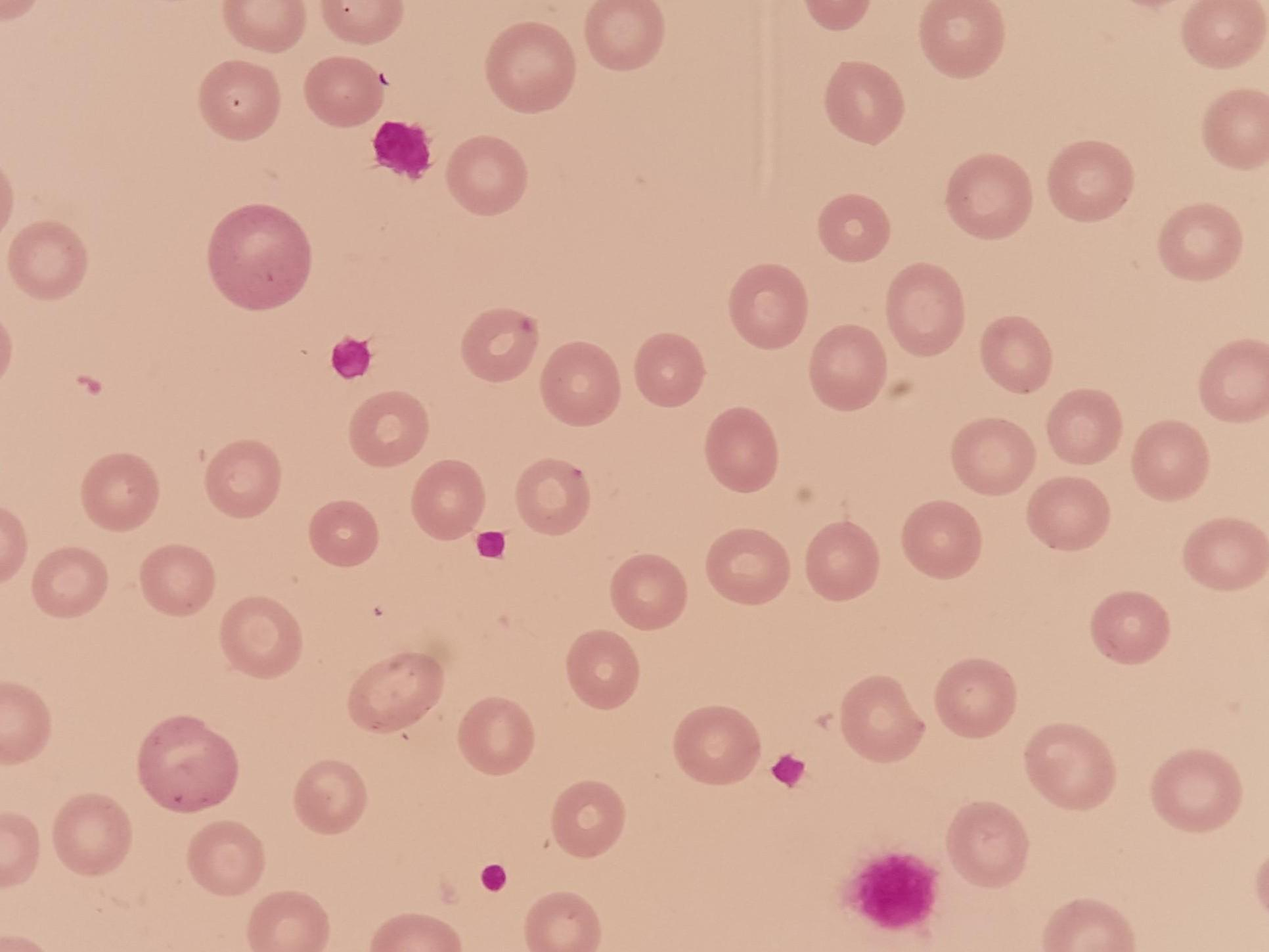Uninfected: (207, 204, 308, 314), (138, 715, 237, 811), (485, 22, 575, 112), (1024, 724, 1115, 810), (1149, 748, 1241, 831), (840, 675, 928, 761), (347, 652, 441, 732), (945, 152, 1031, 237), (946, 801, 1031, 886), (1048, 139, 1136, 221), (885, 263, 965, 353), (673, 706, 759, 786), (1157, 202, 1244, 281), (824, 62, 905, 146), (219, 596, 302, 677), (728, 263, 809, 346), (198, 59, 281, 140), (539, 342, 619, 426), (51, 794, 131, 878), (934, 658, 1017, 738), (705, 528, 790, 606), (1182, 516, 1269, 591), (921, 0, 1006, 76), (9, 220, 89, 300), (445, 135, 525, 215), (81, 451, 160, 532), (808, 326, 885, 409), (349, 390, 430, 468), (803, 520, 881, 601), (901, 501, 982, 579), (950, 417, 1033, 493), (705, 407, 780, 491), (1027, 477, 1110, 552), (1131, 420, 1209, 499), (460, 307, 539, 384), (204, 437, 280, 517), (186, 820, 265, 896), (411, 460, 486, 540), (302, 55, 384, 128), (609, 554, 686, 631), (1046, 388, 1123, 465), (456, 698, 533, 775), (565, 631, 641, 709), (550, 781, 625, 859), (1090, 591, 1170, 664), (30, 546, 108, 620), (1198, 338, 1269, 419), (1182, 0, 1266, 67), (292, 761, 367, 836), (516, 459, 590, 535), (980, 315, 1053, 392), (139, 543, 215, 616), (584, 1, 663, 70), (1201, 88, 1269, 168), (633, 332, 705, 407), (817, 193, 891, 262), (246, 891, 328, 952), (307, 500, 379, 568), (1043, 900, 1135, 951), (525, 893, 600, 952), (1, 682, 52, 764), (223, 0, 303, 52), (322, 0, 402, 45)
